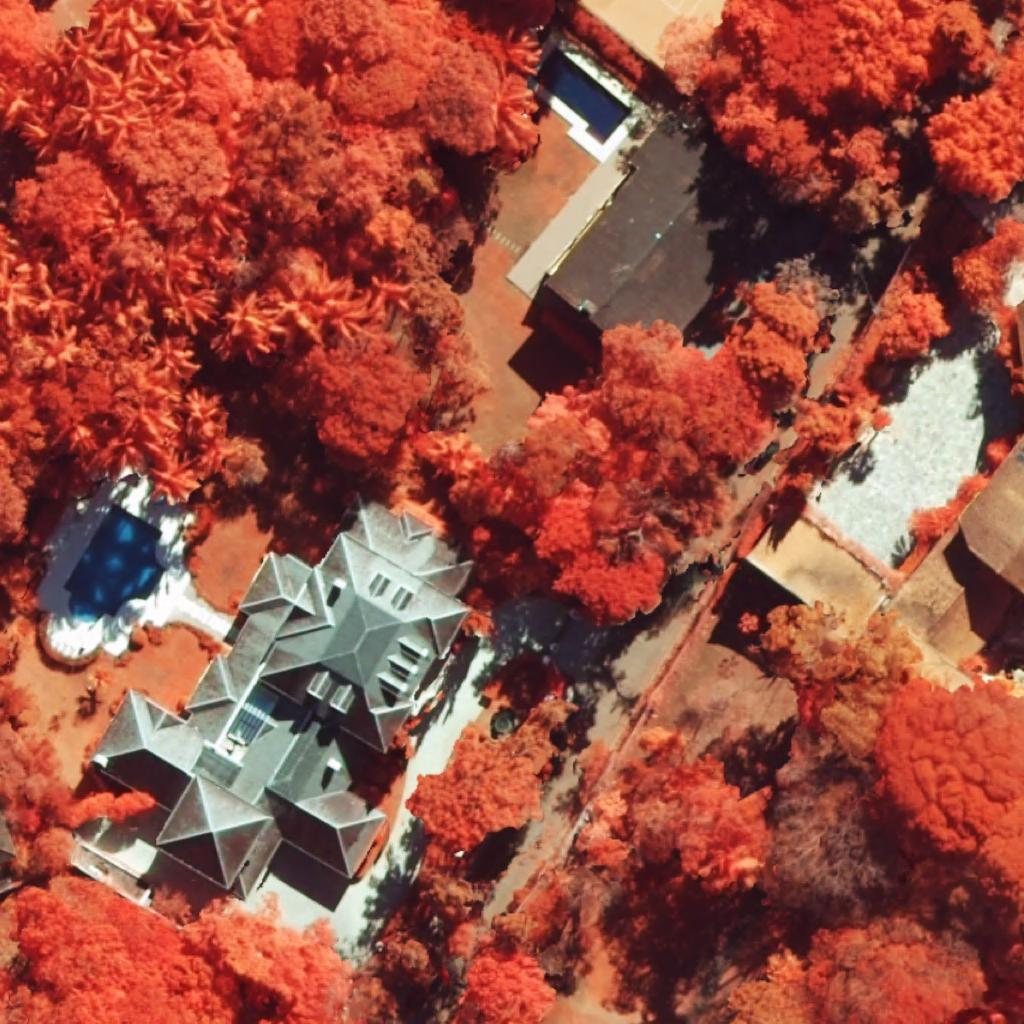pool: (63, 503, 166, 623), (533, 47, 632, 145)
